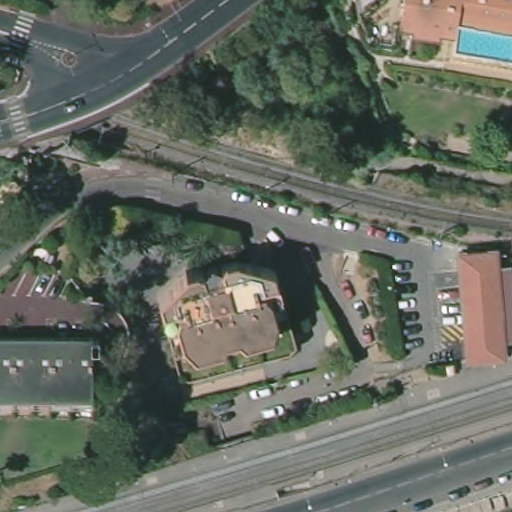pool: (452, 25, 512, 68)
